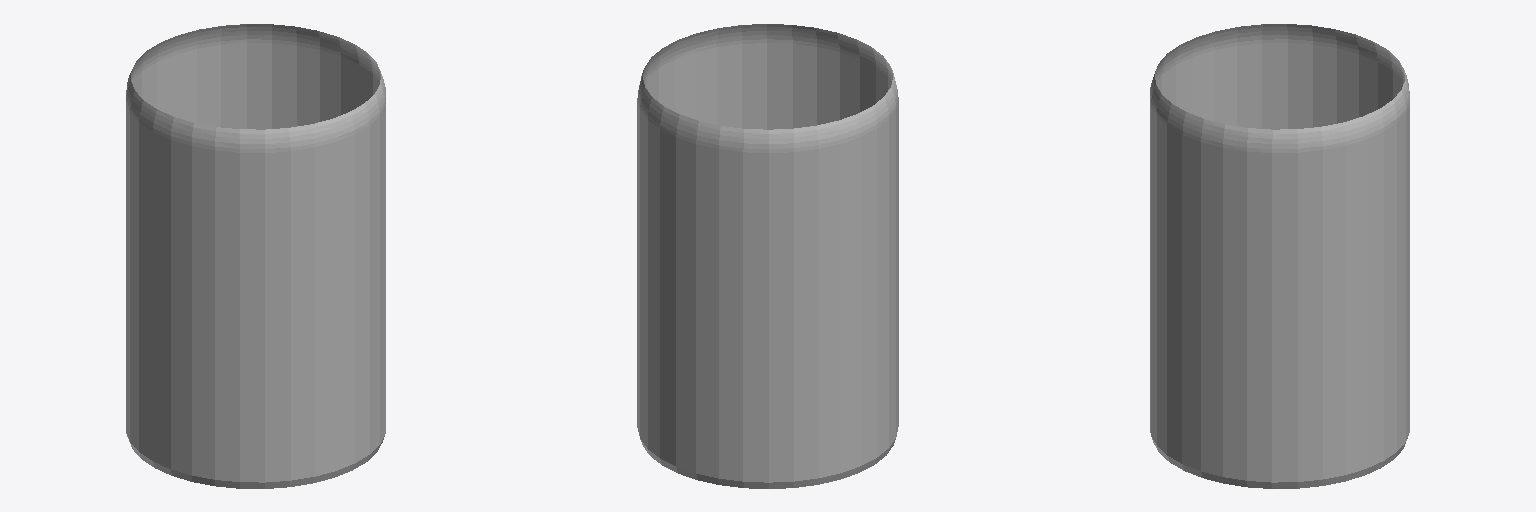
File: can_002.obj
3 views of the same model, side by side, from view 1: azimuth 30°, elevation 25°; view 2: azimuth 150°, elevation 25°; view 3: azimuth 270°, elevation 25° (orthographic).
Parts seen in each view (by area): view 1: can.002; view 2: can.002; view 3: can.002.
Part boxes in pixels (x1,y1,x2,y2): can.002: (126,24,385,488); can.002: (637,24,898,488); can.002: (1150,24,1409,488).
Bounding box in the file's own units: 4.54 × 6.89 × 4.54.